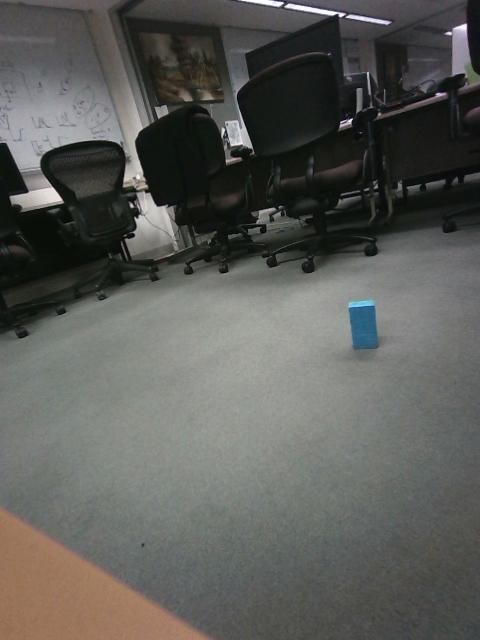block: (325, 435, 408, 547)
